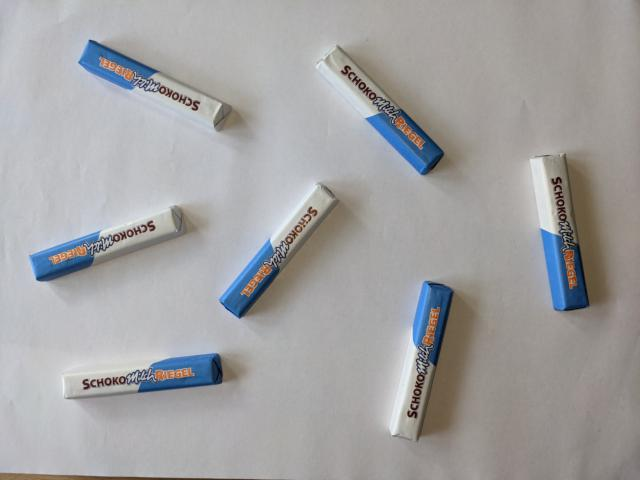Schokoriegel: (311, 40, 447, 177), (216, 178, 343, 322), (75, 35, 235, 135), (26, 203, 190, 284), (385, 278, 456, 446), (526, 150, 593, 313), (57, 350, 225, 403)
